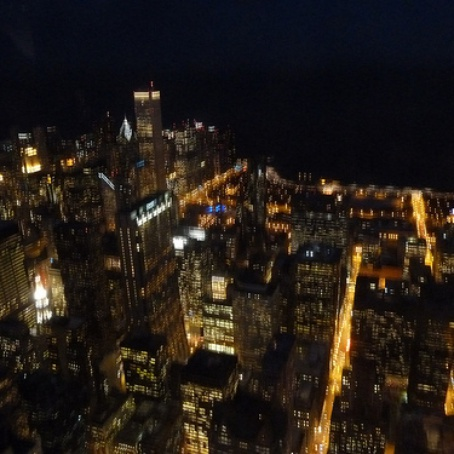building: (116, 193, 195, 362), (340, 281, 424, 416), (284, 238, 348, 376), (217, 247, 283, 380), (52, 216, 105, 348), (125, 82, 172, 196), (55, 178, 108, 237)
